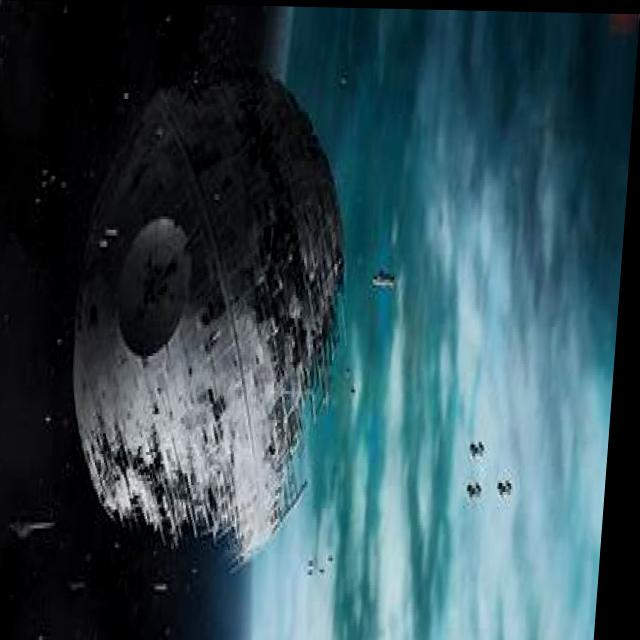deathStar: (61, 67, 373, 578)
